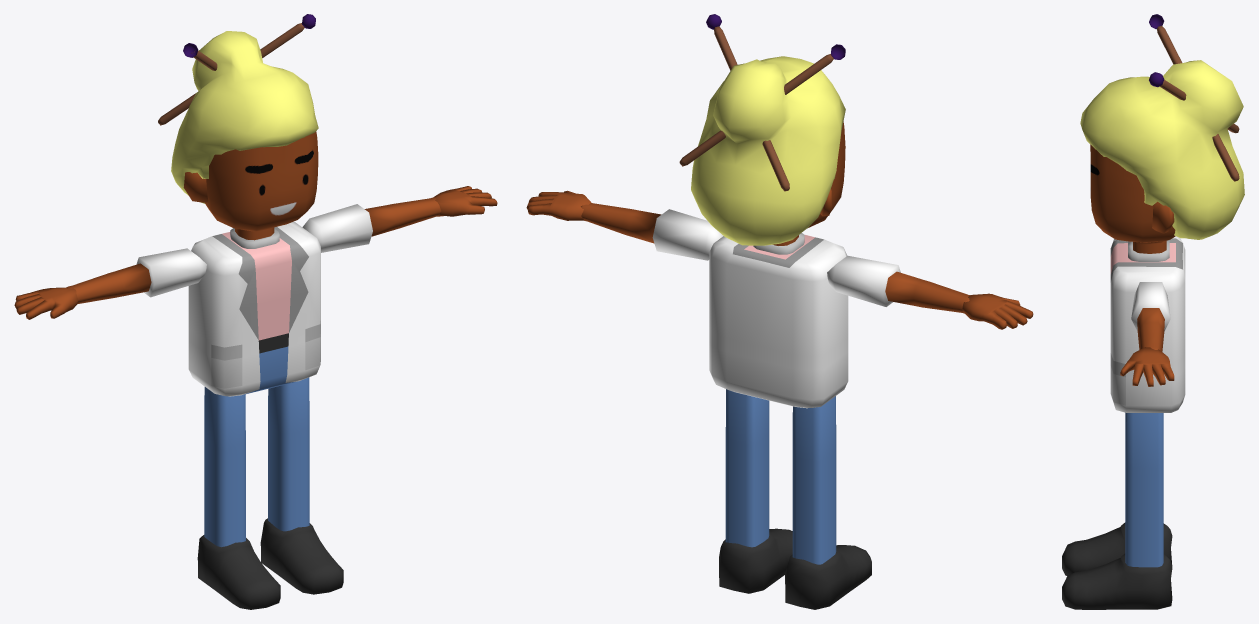
The model's file is NPC_Yellow02_BlondeHair03.gltf.
The picture shows the model from 3 angles, left to right: view 1: azimuth 30°, elevation 25°; view 2: azimuth 150°, elevation 25°; view 3: azimuth 270°, elevation 25°; orthographic projection. The views are drawn at different scales.
Visible parts, largest first — view 1: NPC_Corpo_Yellow2_BlondeHair.003; view 2: NPC_Corpo_Yellow2_BlondeHair.003; view 3: NPC_Corpo_Yellow2_BlondeHair.003.
Part boxes in pixels (x1,y1,x2,y2): NPC_Corpo_Yellow2_BlondeHair.003: (14,14,497,609); NPC_Corpo_Yellow2_BlondeHair.003: (526,14,1033,609); NPC_Corpo_Yellow2_BlondeHair.003: (1062,14,1244,609).
Size of the model in its own units: 2.31 by 2.5 by 0.7676.
1 material, 1 textured.
